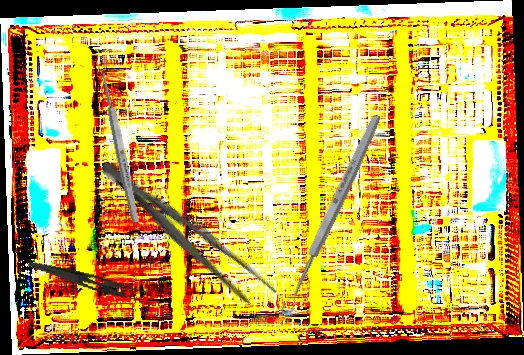Dressing Forceps: (91, 151, 281, 316), (24, 260, 157, 308)
Surgical Spoon: (278, 112, 384, 318), (95, 59, 142, 224)
